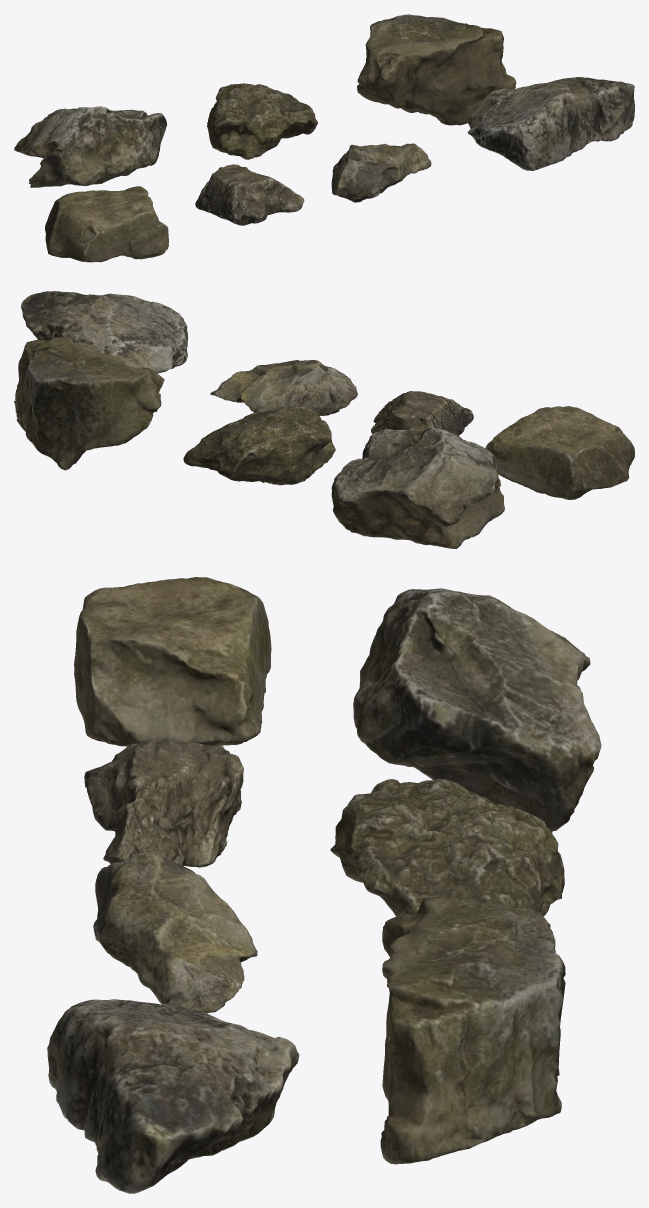
File: rock_moss_set_02.glb
3 views of the same model, one above another, from view 1: azimuth 30°, elevation 25°; view 2: azimuth 150°, elevation 25°; view 3: azimuth 270°, elevation 25° (orthographic). The views are drawn at different scales.
Visible parts, largest first — view 1: rock_moss_set_02_rock13, rock_moss_set_02_rock10, rock_moss_set_02_rock11, rock_moss_set_02_rock07, rock_moss_set_02_rock12, rock_moss_set_02_rock08, rock_moss_set_02_rock09; view 2: rock_moss_set_02_rock11, rock_moss_set_02_rock13, rock_moss_set_02_rock07, rock_moss_set_02_rock10, rock_moss_set_02_rock12, rock_moss_set_02_rock09, rock_moss_set_02_rock08; view 3: rock_moss_set_02_rock13, rock_moss_set_02_rock11, rock_moss_set_02_rock10, rock_moss_set_02_rock07, rock_moss_set_02_rock12, rock_moss_set_02_rock09, rock_moss_set_02_rock08.
Part boxes in pixels (bbox=[...]): rock_moss_set_02_rock13: bbox=[357, 14, 516, 125]; rock_moss_set_02_rock10: bbox=[467, 77, 634, 170]; rock_moss_set_02_rock11: bbox=[14, 106, 166, 187]; rock_moss_set_02_rock07: bbox=[45, 186, 168, 262]; rock_moss_set_02_rock12: bbox=[207, 83, 317, 159]; rock_moss_set_02_rock08: bbox=[195, 164, 304, 225]; rock_moss_set_02_rock09: bbox=[331, 143, 431, 202]; rock_moss_set_02_rock11: bbox=[331, 427, 504, 548]; rock_moss_set_02_rock13: bbox=[14, 337, 164, 470]; rock_moss_set_02_rock07: bbox=[485, 406, 634, 499]; rock_moss_set_02_rock10: bbox=[21, 291, 188, 373]; rock_moss_set_02_rock12: bbox=[183, 406, 335, 485]; rock_moss_set_02_rock09: bbox=[210, 360, 357, 415]; rock_moss_set_02_rock08: bbox=[371, 391, 473, 435]; rock_moss_set_02_rock13: bbox=[380, 895, 565, 1164]; rock_moss_set_02_rock11: bbox=[353, 588, 601, 833]; rock_moss_set_02_rock10: bbox=[47, 999, 299, 1193]; rock_moss_set_02_rock07: bbox=[74, 577, 271, 746]; rock_moss_set_02_rock12: bbox=[330, 779, 564, 927]; rock_moss_set_02_rock09: bbox=[93, 851, 257, 1013]; rock_moss_set_02_rock08: bbox=[84, 741, 243, 867].
Size of the model in its own units: 8.28 by 1.37 by 3.41.
Materials: 1 (1 with a texture image).
